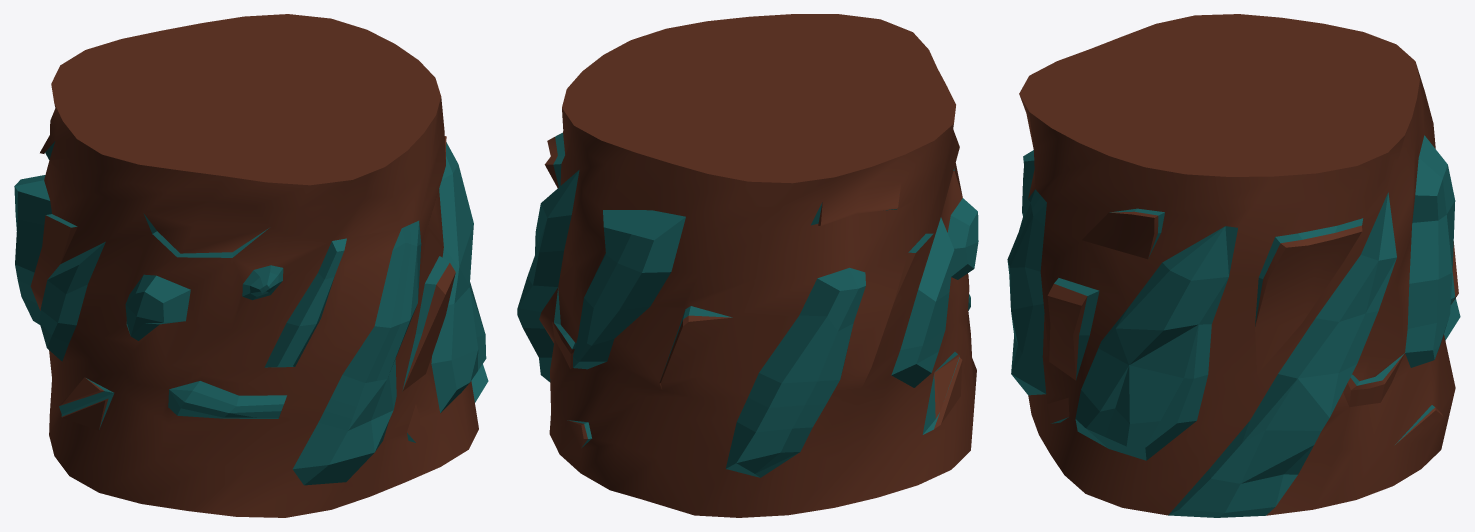
Rendered from Mount_4_1.fbx.
The picture shows the model from 3 angles, left to right: view 1: azimuth 30°, elevation 25°; view 2: azimuth 150°, elevation 25°; view 3: azimuth 270°, elevation 25°; orthographic projection.
Parts seen in each view (by area): view 1: Rock_4_1; view 2: Rock_4_1; view 3: Rock_4_1.
Part boxes in pixels (x1,y1,x2,y2): Rock_4_1: (14,14,488,517); Rock_4_1: (517,14,978,517); Rock_4_1: (1007,14,1460,517).
Size of the model in its own units: 1897 by 1501 by 1880.
